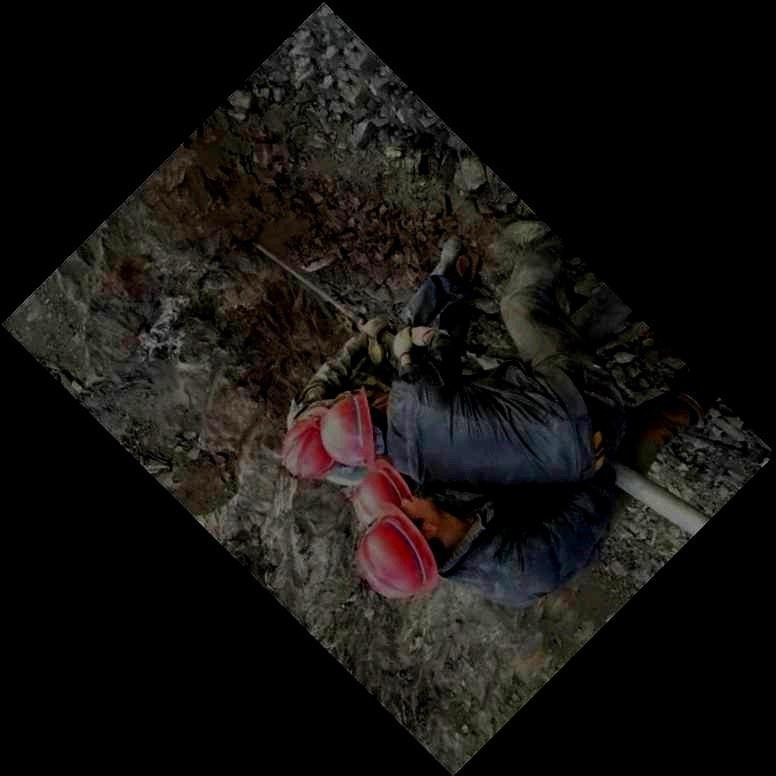helmet: (356, 494, 455, 600), (319, 384, 390, 468), (353, 456, 417, 527), (280, 406, 335, 481)
